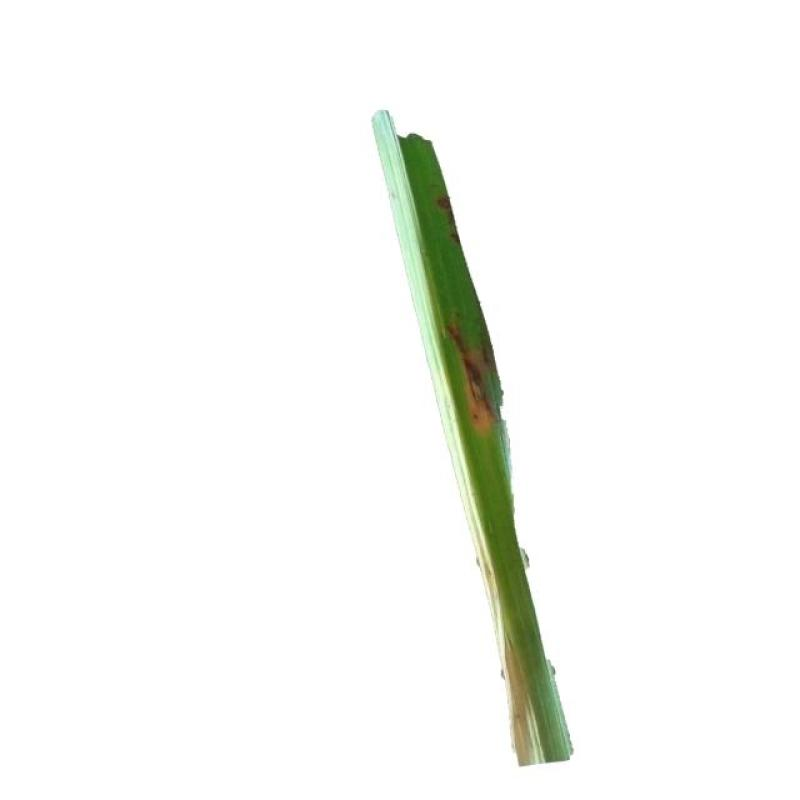Leaf_Blast: (432, 304, 507, 435)
